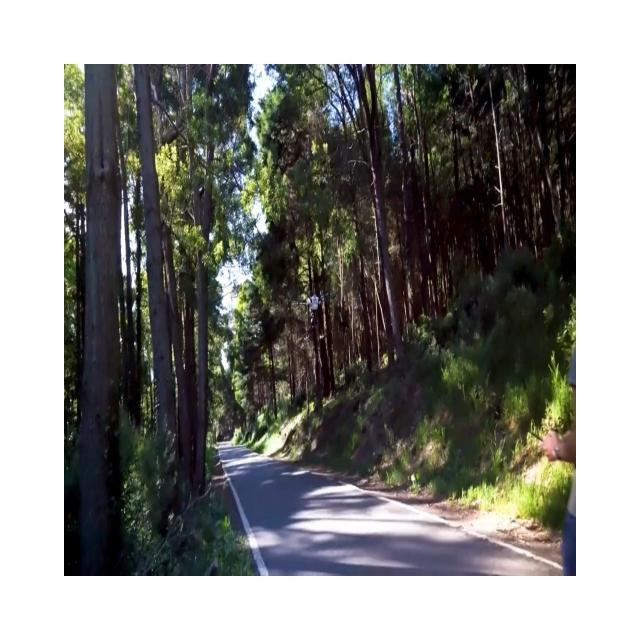drone: (291, 281, 332, 339)
